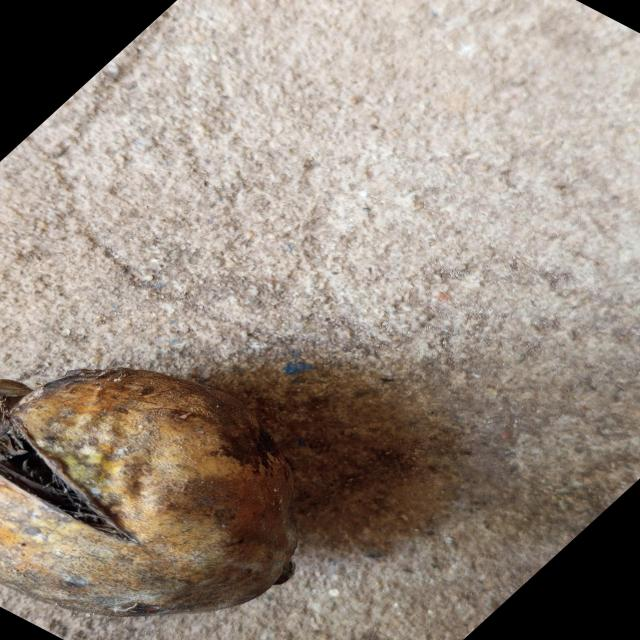damaged: (0, 369, 297, 625)
